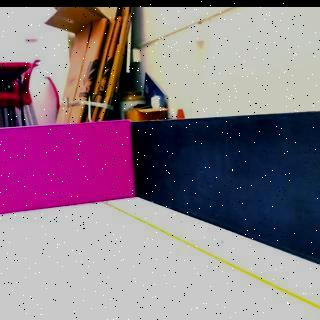xparking: (2, 130, 132, 212)
